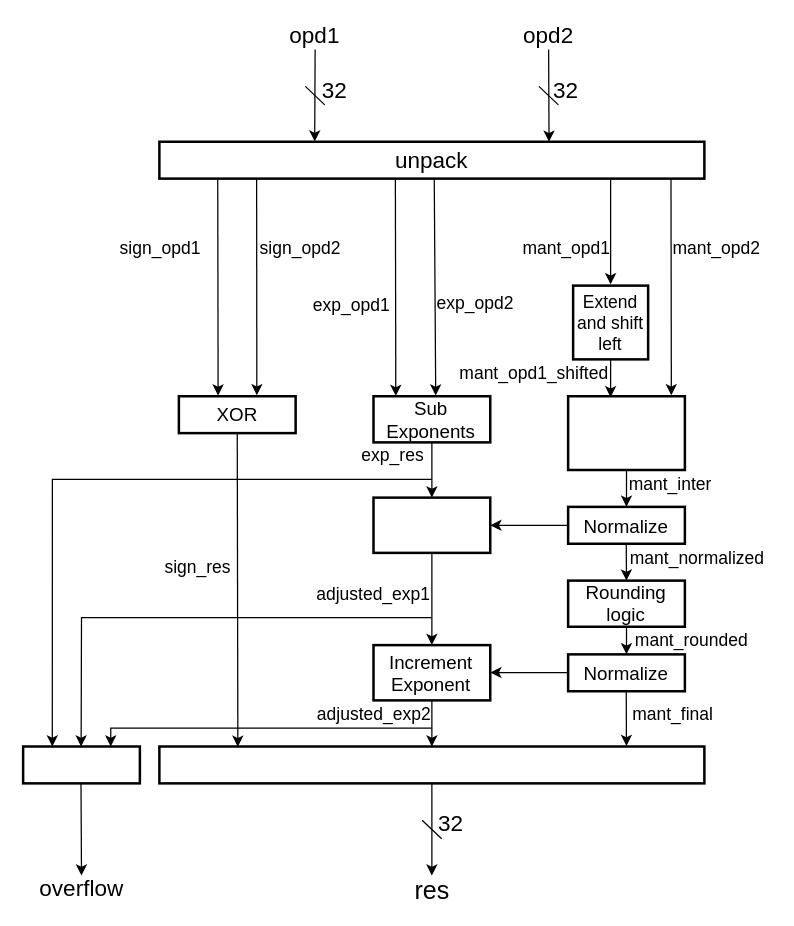
The diagram is 794 pixels wide and 926 high, and some of its shapes have lost their labels. The centre of each missing label's shape, as x and y in pixels:
"Decrement Exponent" belongs at (x=431, y=525).
"Divide Mantissas" belongs at (x=626, y=432).
"OVF Check" belongs at (x=80, y=764).
"pack" belongs at (x=431, y=764).
